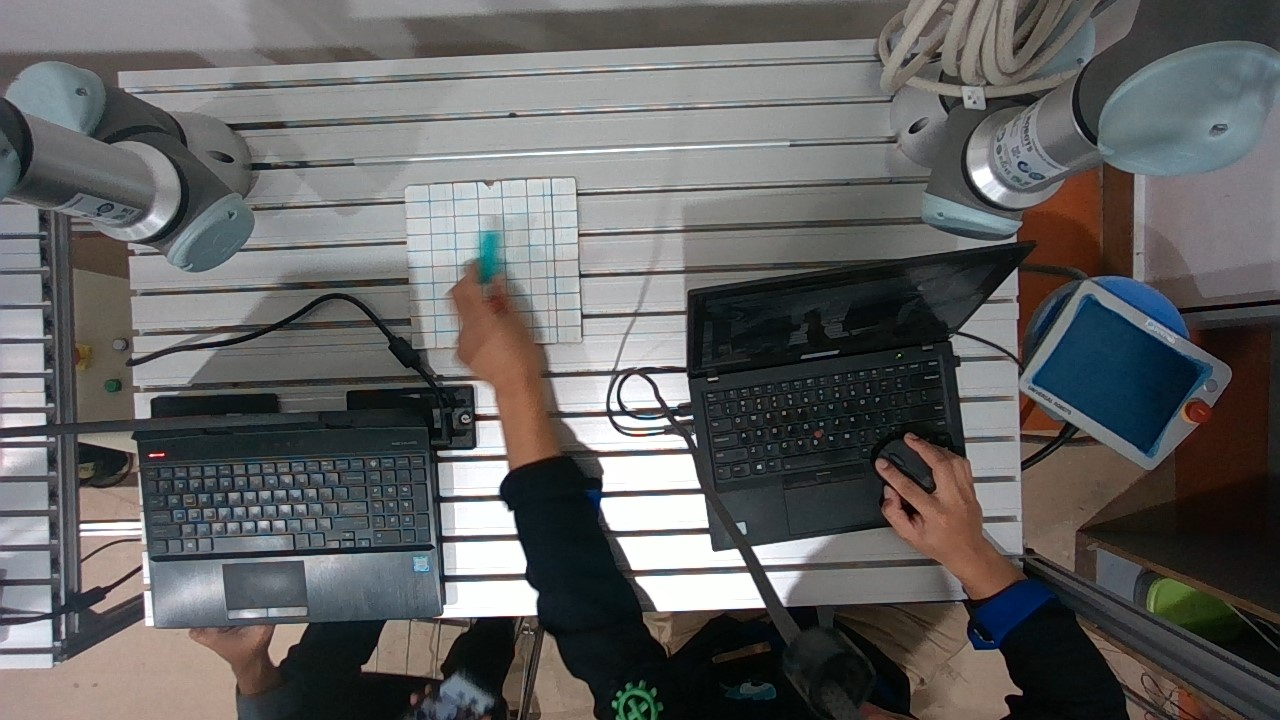box: (459, 216, 512, 296)
